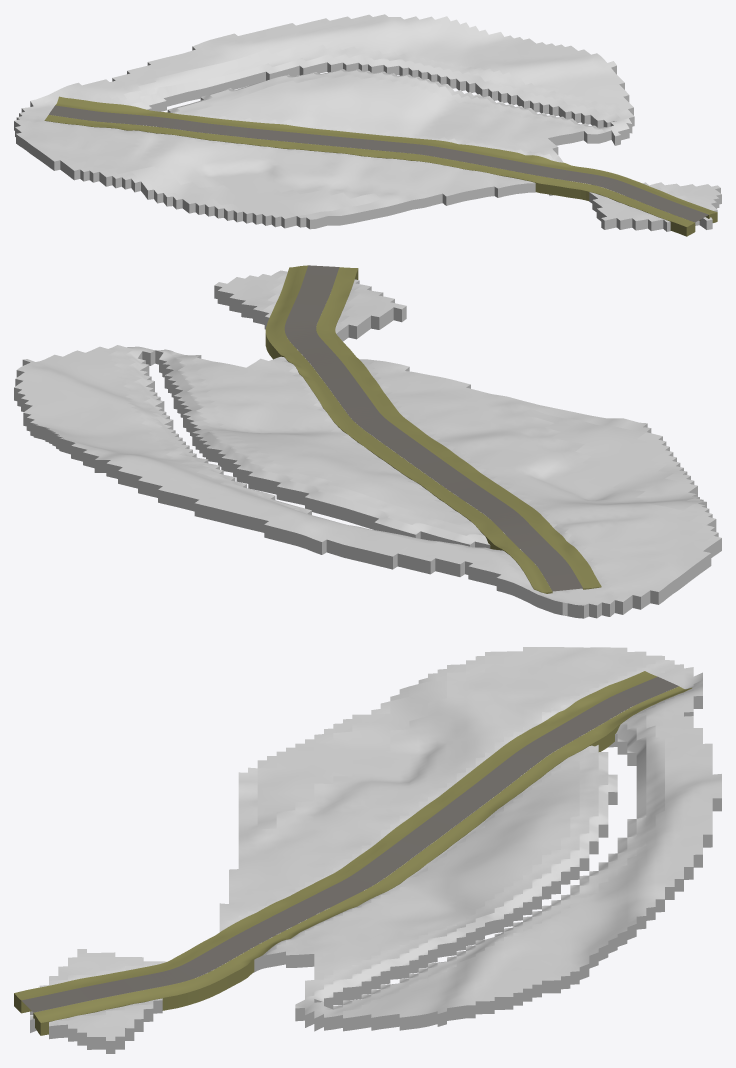
The model's file is conz_127.glb.
3 views of the same model, one above another, from view 1: azimuth 30°, elevation 25°; view 2: azimuth 150°, elevation 25°; view 3: azimuth 270°, elevation 25° (orthographic). The views are drawn at different scales.
Parts seen in each view (by area): view 1: terrain127, road127, verge127L, verge127R; view 2: terrain127, road127, verge127R, verge127L; view 3: terrain127, road127, verge127R, verge127L.
Boxes of the visible parts, x1,y1,x2,y2 form: terrain127: (14, 14, 721, 231); road127: (49, 105, 708, 222); verge127L: (44, 115, 695, 236); verge127R: (55, 96, 717, 222); terrain127: (14, 270, 721, 618); road127: (284, 265, 582, 591); verge127R: (265, 265, 552, 593); verge127L: (316, 267, 601, 589); terrain127: (30, 647, 721, 1053); road127: (21, 676, 678, 1012); verge127R: (33, 686, 691, 1035); verge127L: (14, 671, 657, 1013).
Bounding box in the file's own units: 176 × 20.19 × 149.
